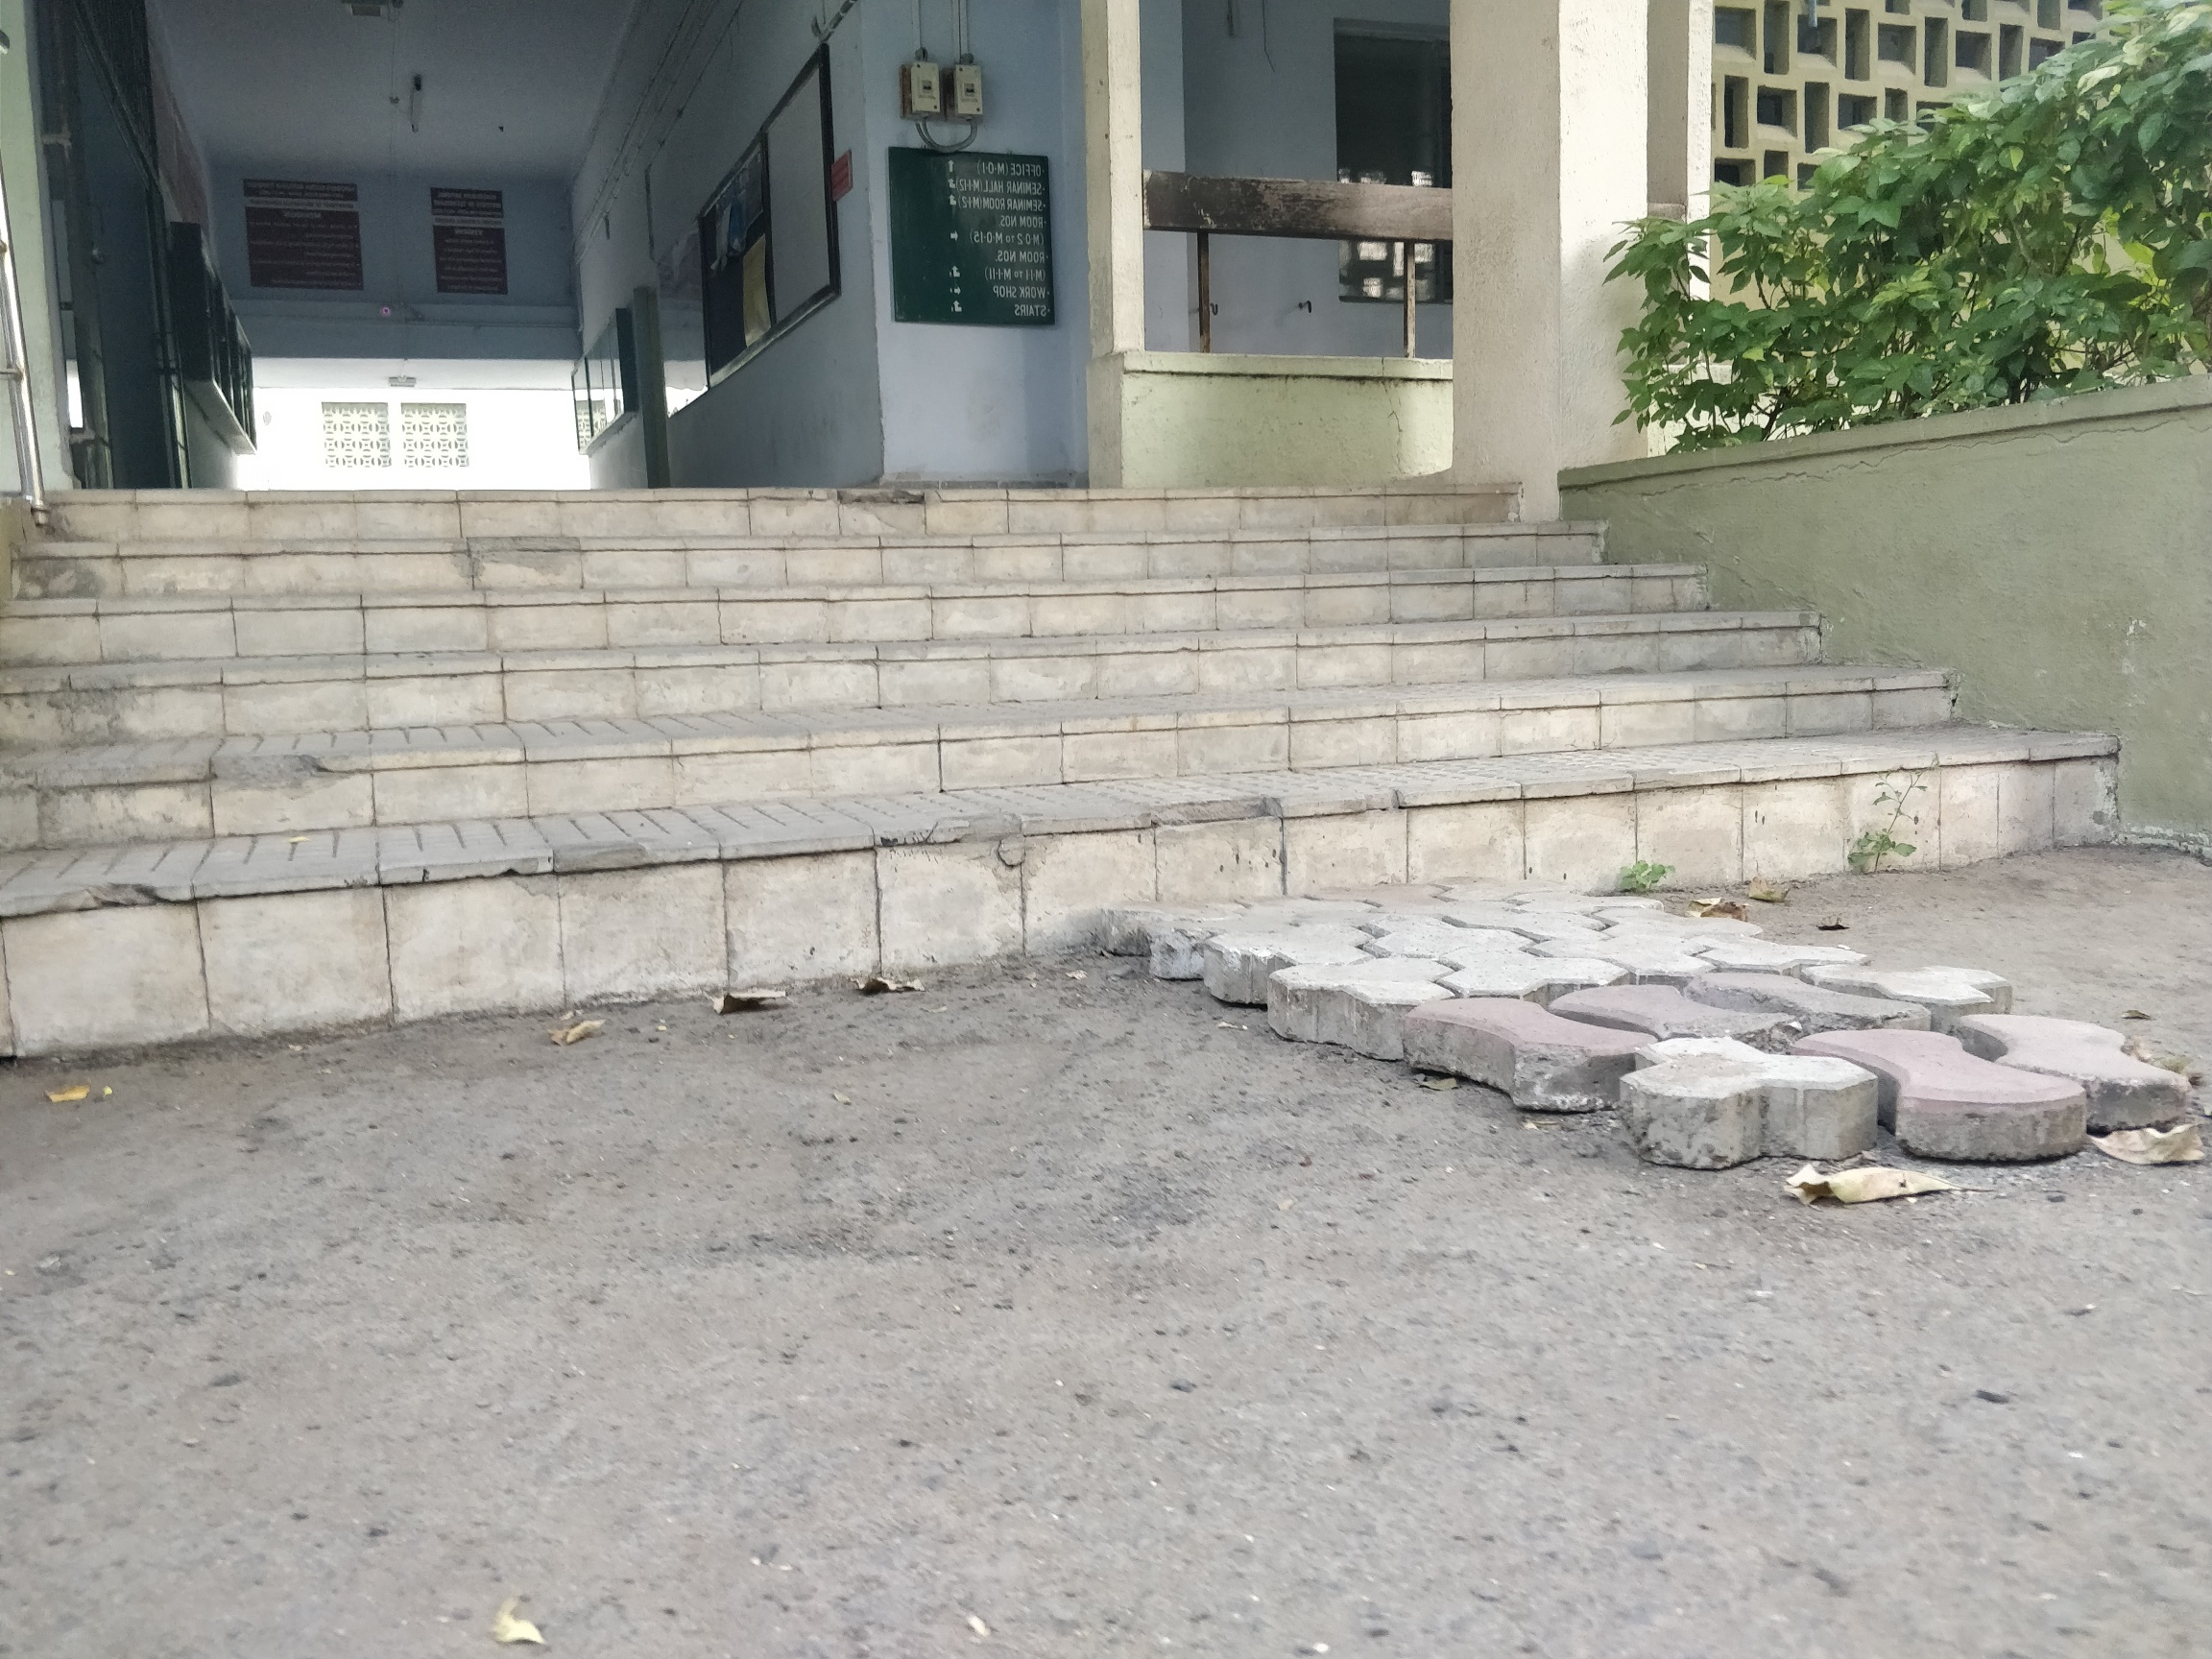stairs_up: (12, 467, 2123, 976)
